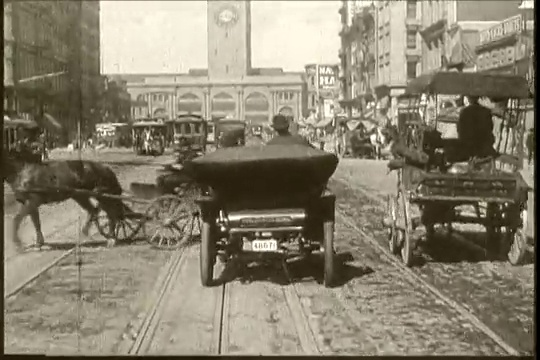car: (180, 114, 340, 296)
carriage: (375, 59, 538, 274), (0, 135, 214, 251)
trolley: (169, 112, 211, 156)
